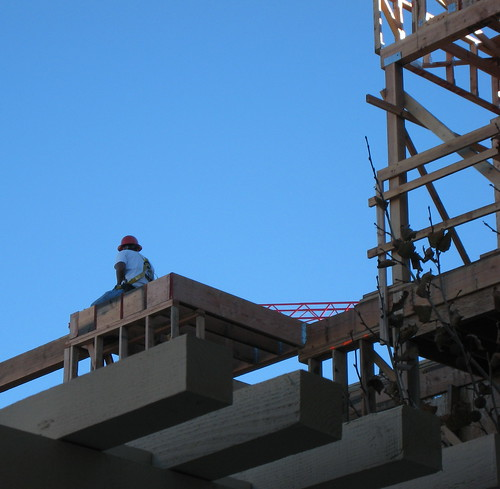person hardhat: (93, 232, 166, 309)
